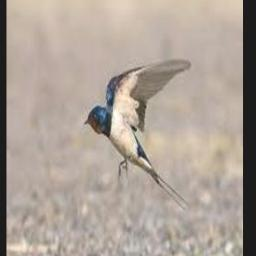Swallow: (84, 58, 191, 209)
